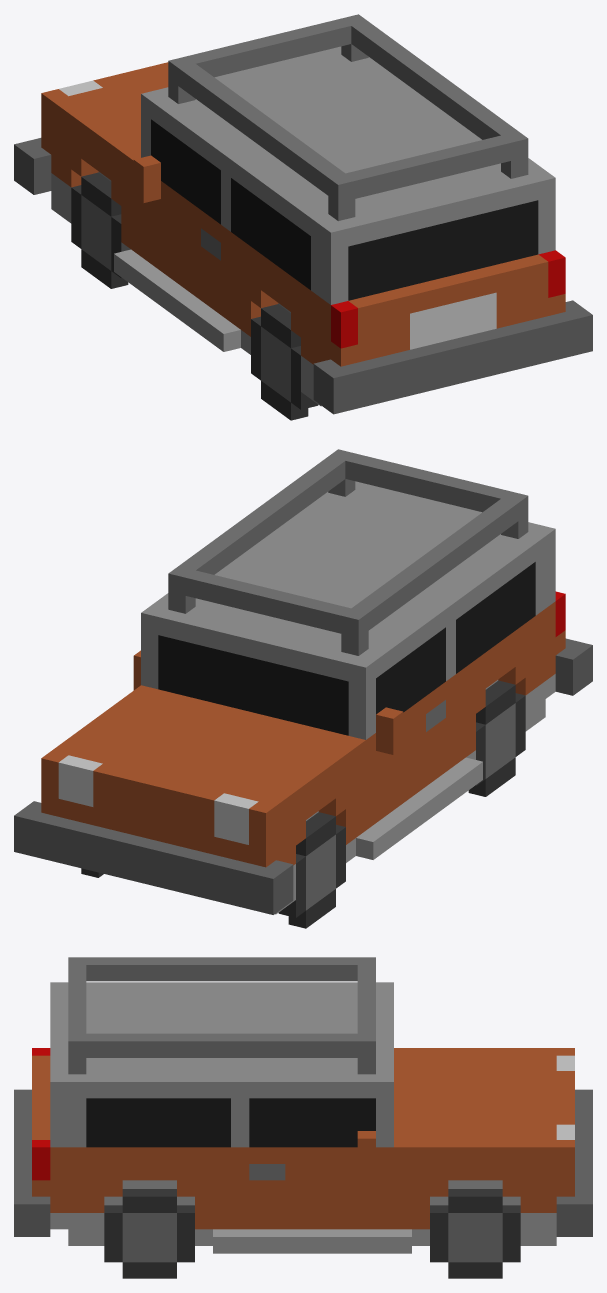
The model's file is car.glb.
The picture shows the model from 3 angles, top to bottom: view 1: azimuth 30°, elevation 25°; view 2: azimuth 150°, elevation 25°; view 3: azimuth 270°, elevation 25°; orthographic projection. The views are drawn at different scales.
Visible parts, largest first — view 1: cars-1; view 2: cars-1; view 3: cars-1.
Part boxes in pixels (<box>): cars-1: <box>14,14,592,420</box>; cars-1: <box>14,449,592,928</box>; cars-1: <box>14,957,592,1278</box>.
Size of the model in its own units: 1.5 by 1.4 by 3.2.
